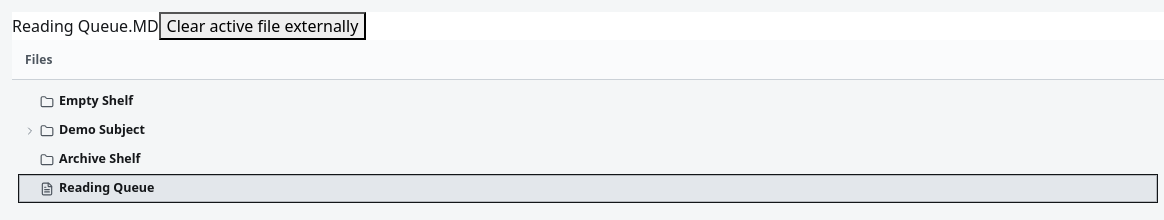
Test: FileExplorer › clears the active note while preserving a replacement directory selection
Click the list item "Archive Shelf": point(100, 159) [18,145,1158,174]
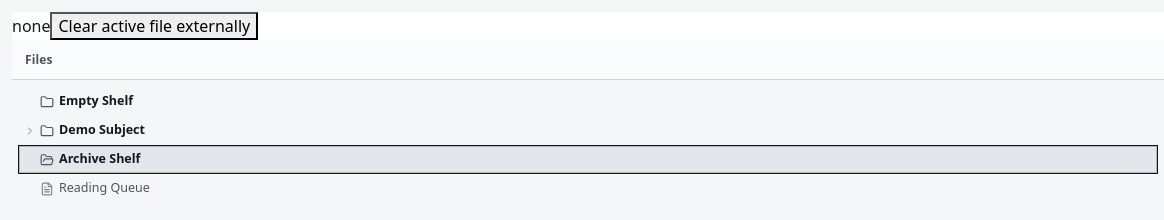
Check: the text with test id "active-file" reads "none", box [12,15,50,37]
